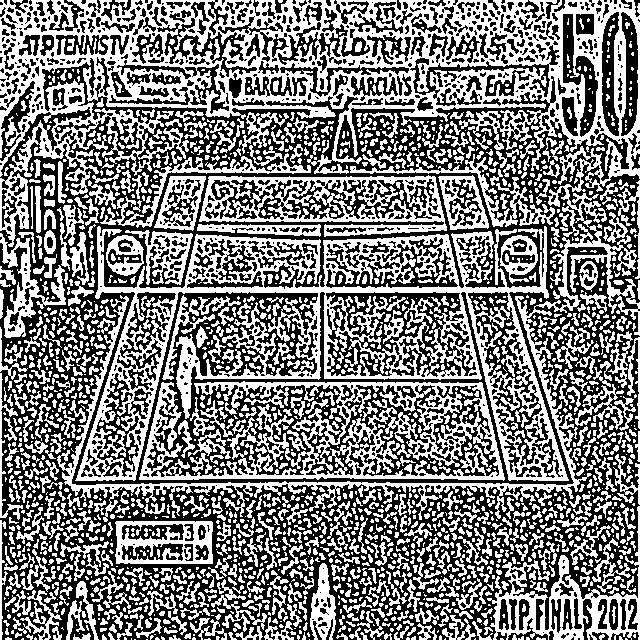left side: (437, 174, 570, 483), (74, 176, 207, 482)
player: (164, 322, 212, 454), (330, 72, 360, 162)
